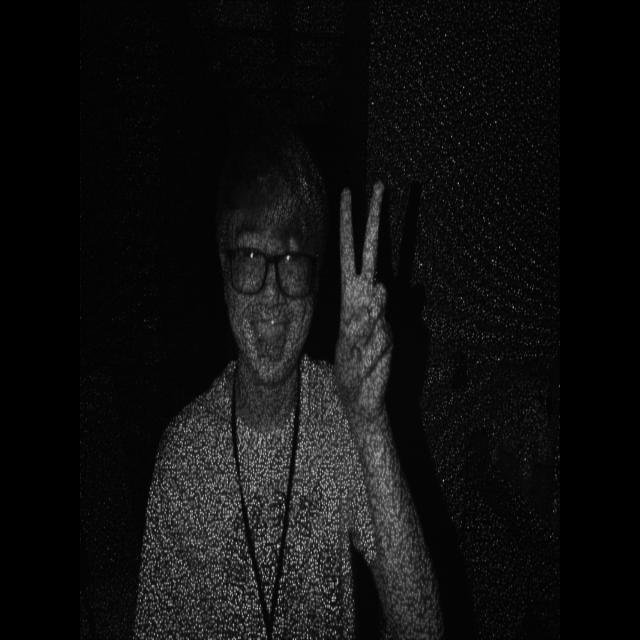V: (330, 175, 403, 442)
